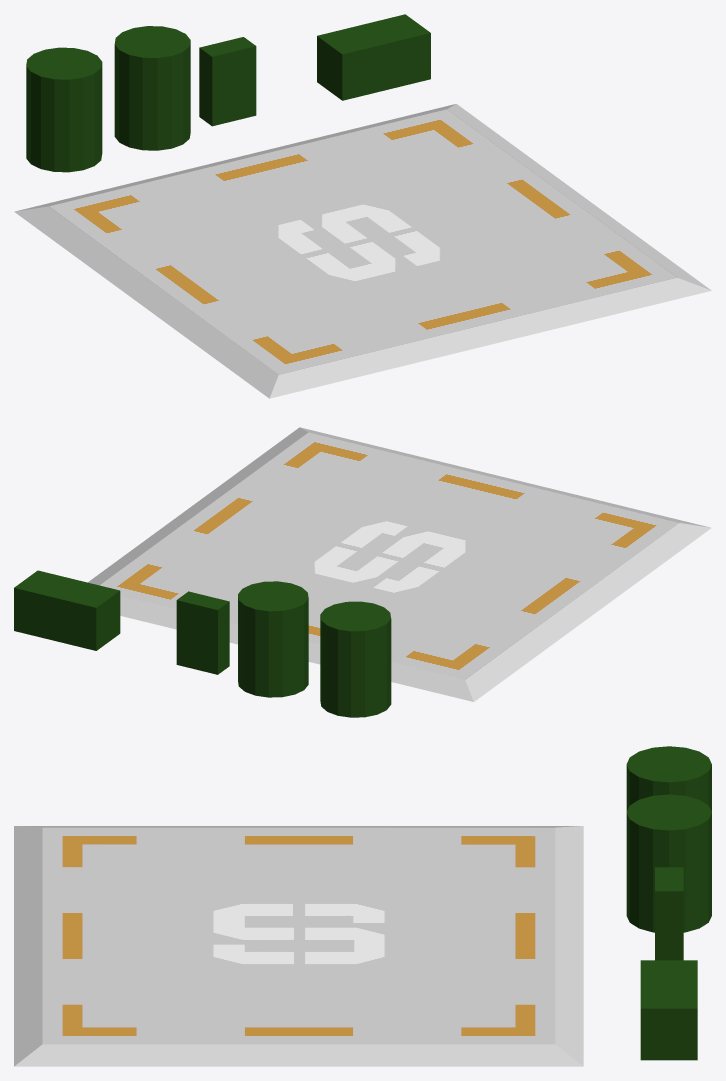
Rendered from supply_station.glb.
The picture shows the model from 3 angles, top to bottom: view 1: azimuth 30°, elevation 25°; view 2: azimuth 150°, elevation 25°; view 3: azimuth 270°, elevation 25°; orthographic projection. The views are drawn at different scales.
Visible parts, largest first — view 1: base, Zylinder, Zylinder.001, Würfel.002, Würfel; view 2: base, Zylinder.001, Zylinder, Würfel.002, Würfel; view 3: base, Zylinder, Würfel.002, Zylinder.001, Würfel.
Boxes of the visible parts, <box> form: base: <box>14,104,711,398</box>; Zylinder: <box>114,26,190,150</box>; Zylinder.001: <box>26,47,102,172</box>; Würfel.002: <box>317,14,430,100</box>; Würfel: <box>199,37,256,126</box>; base: <box>88,427,711,701</box>; Zylinder.001: <box>320,601,391,717</box>; Zylinder: <box>238,581,308,697</box>; Würfel.002: <box>14,570,120,650</box>; Würfel: <box>176,591,229,674</box>; base: <box>14,826,583,1066</box>; Zylinder: <box>626,794,711,932</box>; Würfel.002: <box>640,960,697,1060</box>; Zylinder.001: <box>626,746,711,811</box>; Würfel: <box>655,867,683,960</box>.
Size of the model in its own units: 1 by 0.2125 by 1.22.
2 materials, 1 textured.
